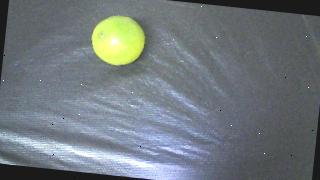LOCAL: (89, 13, 147, 68)
